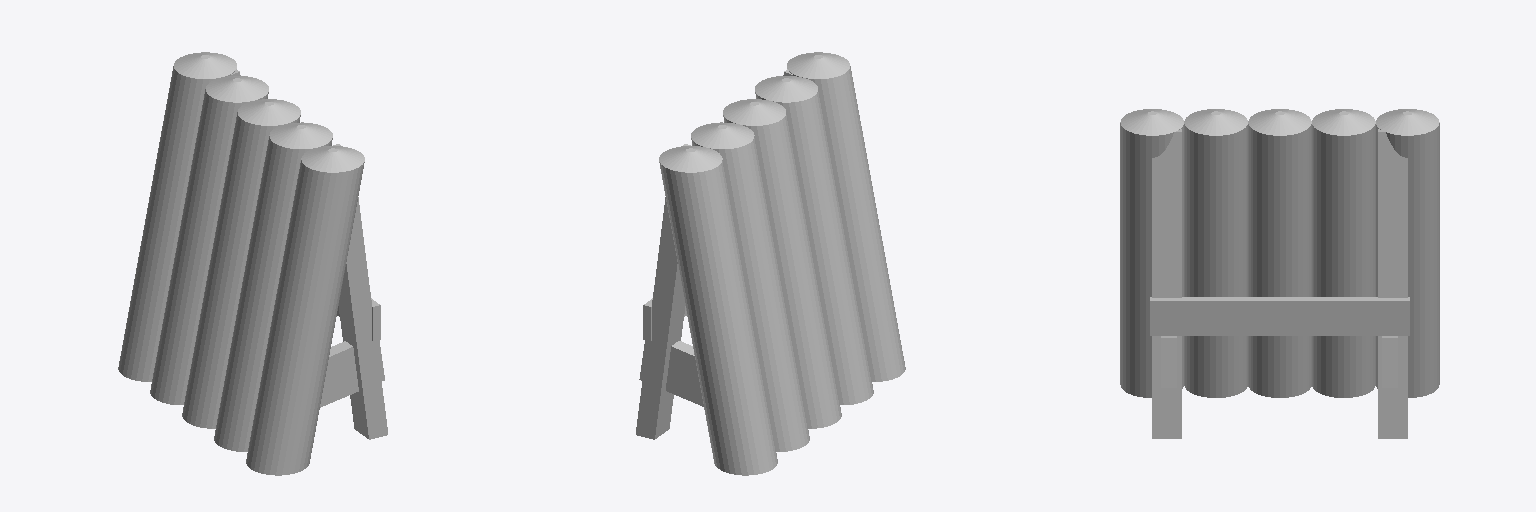
Rendered from STTwall.obj.
3 views of the same model, side by side, from view 1: azimuth 30°, elevation 25°; view 2: azimuth 150°, elevation 25°; view 3: azimuth 270°, elevation 25° (orthographic).
Parts seen in each view (by area): view 1: Cylinder, Cube, Cube.003; view 2: Cylinder, Cube.001, Cube.004; view 3: Cylinder, Cube.002, Cube, Cube.001, Cube.003, Cube.004.
Boxes of the visible parts, x1=… form: Cylinder: x1=118, y1=52, x2=364, y2=475; Cube: x1=333, y1=144, x2=387, y2=439; Cube.003: x1=320, y1=340, x2=384, y2=407; Cylinder: x1=659, y1=52, x2=905, y2=475; Cube.001: x1=636, y1=144, x2=690, y2=439; Cube.004: x1=639, y1=340, x2=703, y2=406; Cylinder: x1=1120, y1=109, x2=1439, y2=397; Cube.002: x1=1150, y1=297, x2=1409, y2=335; Cube: x1=1152, y1=129, x2=1181, y2=438; Cube.001: x1=1378, y1=129, x2=1407, y2=438; Cube.003: x1=1161, y1=336, x2=1176, y2=387; Cube.004: x1=1382, y1=336, x2=1397, y2=387.
Bounding box in the file's own units: 2.52 × 5.16 × 5.